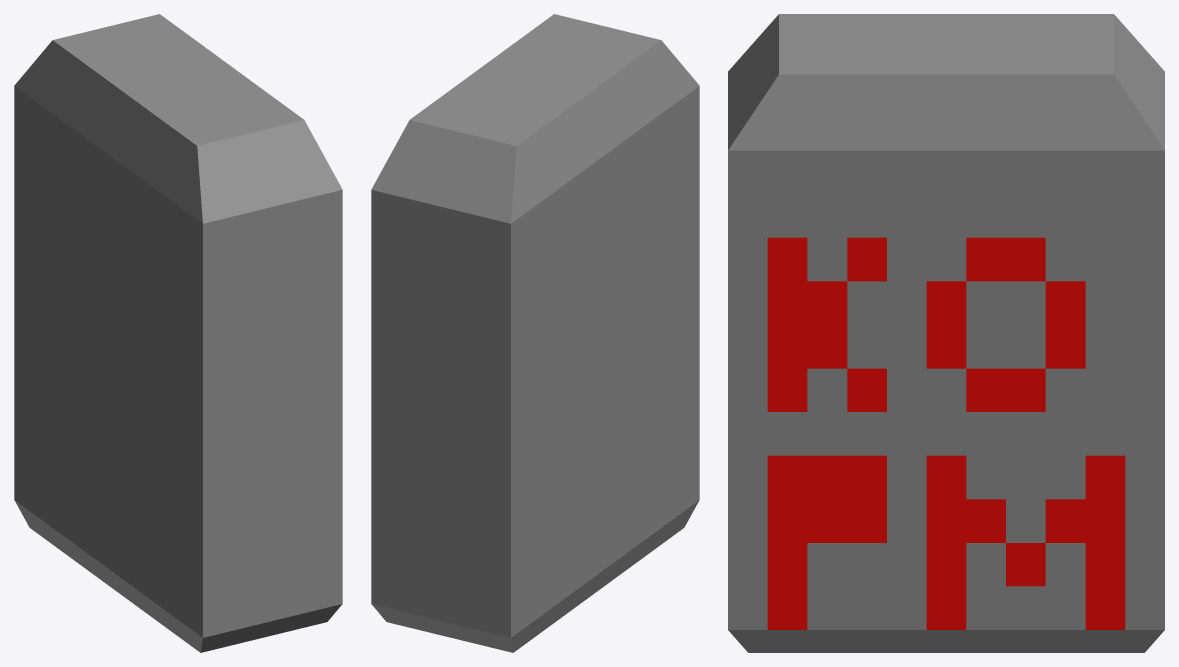
File: Kormyshka.fbx
3 views of the same model, side by side, from view 1: azimuth 30°, elevation 25°; view 2: azimuth 150°, elevation 25°; view 3: azimuth 270°, elevation 25° (orthographic). The views are drawn at different scales.
Parts seen in each view (by area): view 1: Cube; view 2: Cube; view 3: Cube.
Boxes of the visible parts, x1=… form: Cube: x1=14, y1=14, x2=342, y2=652; Cube: x1=371, y1=14, x2=699, y2=652; Cube: x1=728, y1=14, x2=1164, y2=652.
Bounding box in the file's own units: 17.37 × 58.77 × 40.63.
